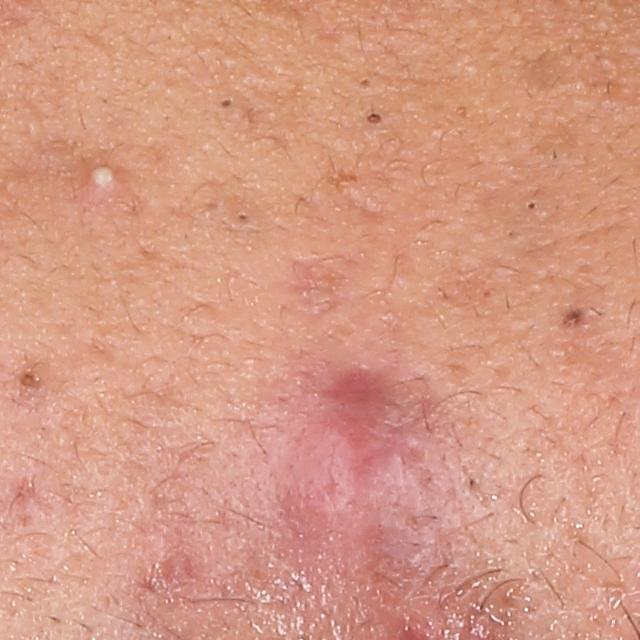comedo: (16, 367, 45, 393), (517, 196, 545, 216), (363, 108, 387, 128), (230, 209, 253, 226)
nevus: (557, 307, 590, 331)
pustule: (85, 157, 122, 191)
